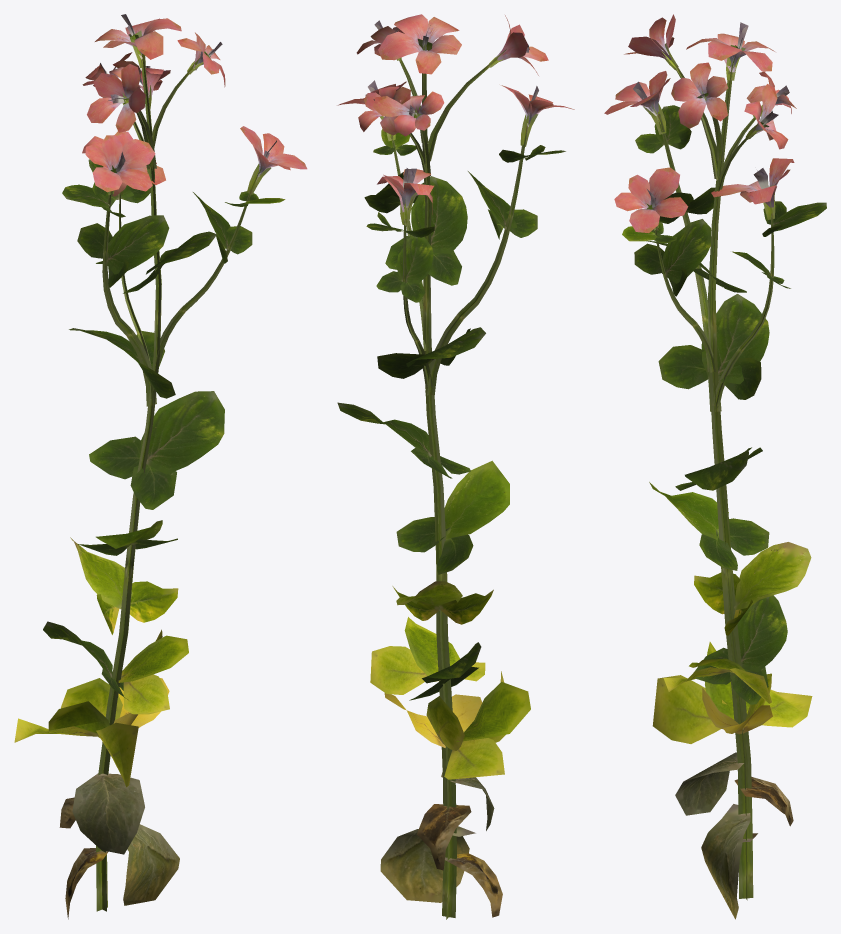
The model's file is Periwinkle_bush_normal_peach.glb.
The picture shows the model from 3 angles, left to right: view 1: azimuth 30°, elevation 25°; view 2: azimuth 150°, elevation 25°; view 3: azimuth 270°, elevation 25°; orthographic projection.
Parts seen in each view (by area): view 1: _b868_Var1_LOD1; view 2: _b868_Var1_LOD1; view 3: _b868_Var1_LOD1.
Boxes of the visible parts, box(x1,y1,x2,y2) form: _b868_Var1_LOD1: box(14, 14, 307, 919); _b868_Var1_LOD1: box(337, 14, 574, 919); _b868_Var1_LOD1: box(604, 14, 826, 919).
Size of the model in its own units: 0.7589 by 2.81 by 0.6398.
Materials: 1 (1 with a texture image).
